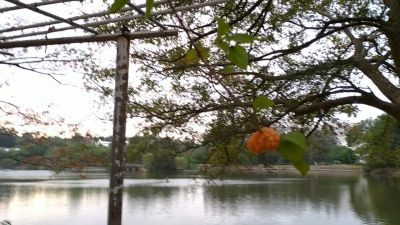eggs: (246, 125, 281, 155)
